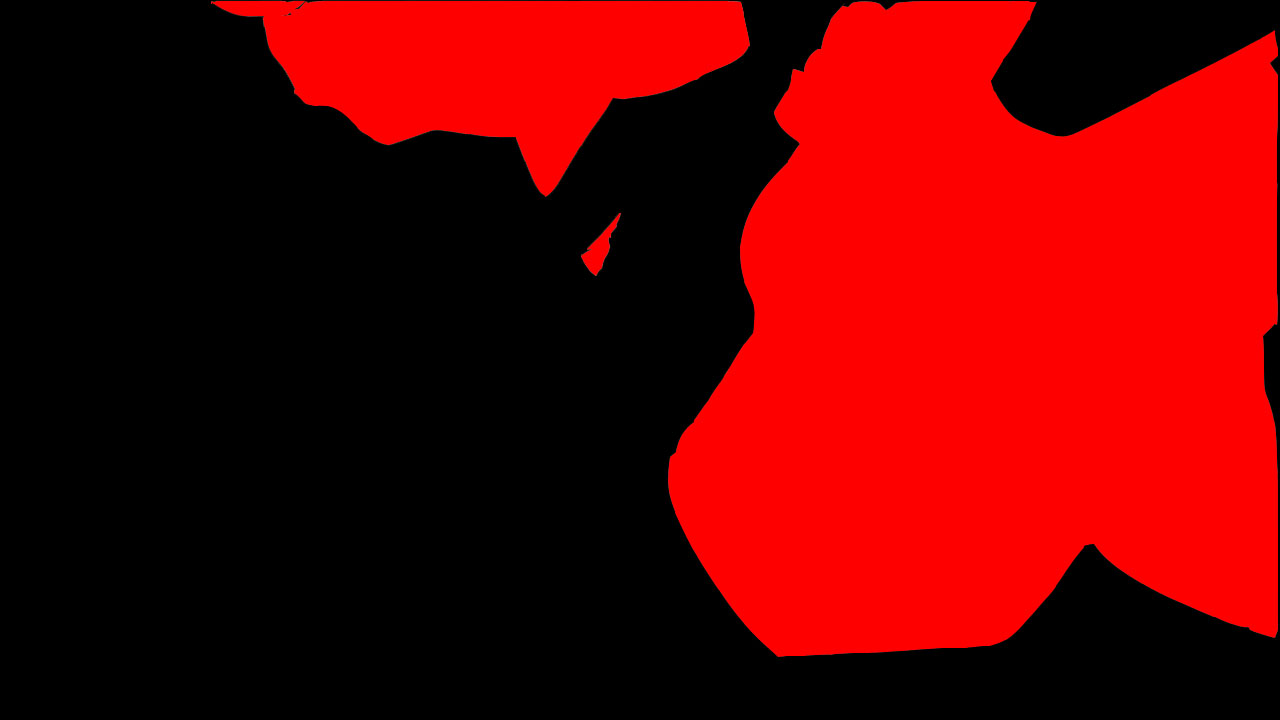uniforme_ifmt: (670, 4, 1280, 660), (198, 2, 753, 284)
